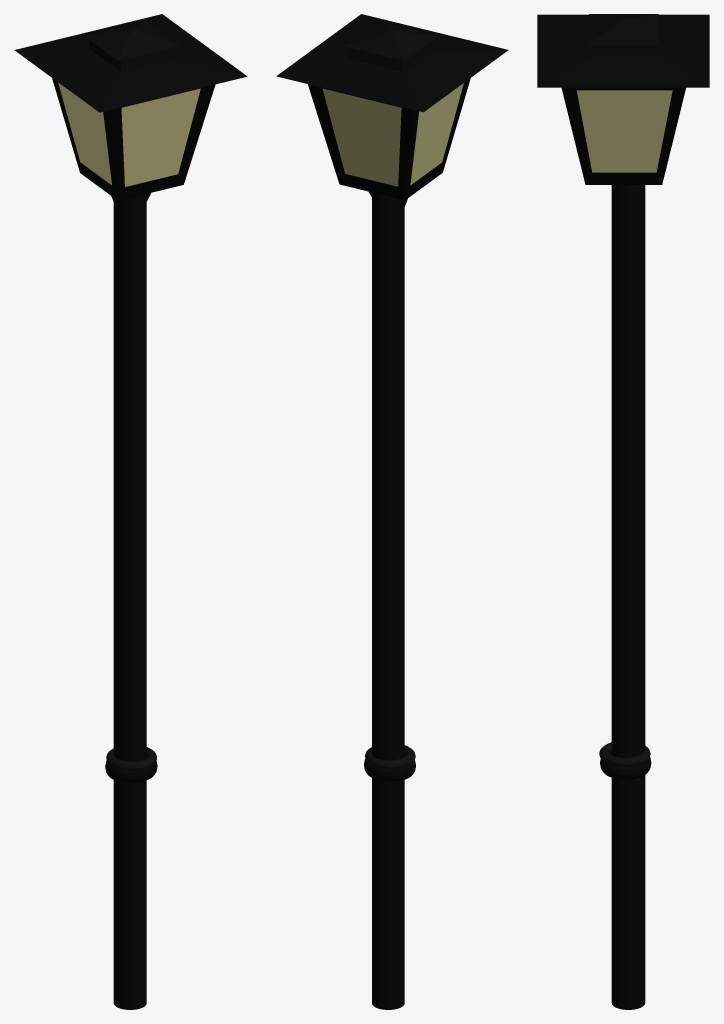
File: posteluz.fbx
3 renders of one model, left to right at view 1: azimuth 30°, elevation 25°; view 2: azimuth 150°, elevation 25°; view 3: azimuth 270°, elevation 25°, orthographic.
Visible parts, largest first — view 1: Cylinder, Cube, Cube.001, Cube.003, Cube.002, Torus, Torus.001; view 2: Cylinder, Cube, Cube.001, Cube.003, Cube.002, Torus, Torus.001; view 3: Cylinder, Cube.001, Cube, Cube.003, Cube.002, Torus, Torus.001.
Boxes of the visible parts, left/top/right/bottom form: Cylinder: left=113, top=194, right=146, bottom=1009; Cube: left=52, top=78, right=215, bottom=200; Cube.001: left=14, top=14, right=247, bottom=112; Cube.003: left=84, top=20, right=179, bottom=60; Cube.002: left=89, top=40, right=174, bottom=71; Torus: left=105, top=760, right=157, bottom=782; Torus.001: left=106, top=747, right=156, bottom=770; Cylinder: left=372, top=192, right=404, bottom=1009; Cube: left=308, top=78, right=470, bottom=200; Cube.001: left=276, top=14, right=508, bottom=112; Cube.003: left=343, top=21, right=438, bottom=60; Cube.002: left=348, top=40, right=433, bottom=71; Torus: left=364, top=756, right=415, bottom=781; Torus.001: left=365, top=745, right=415, bottom=768; Cylinder: left=611, top=185, right=645, bottom=1009; Cube.001: left=537, top=14, right=709, bottom=87; Cube: left=561, top=87, right=685, bottom=184; Cube.003: left=589, top=14, right=658, bottom=44; Cube.002: left=592, top=44, right=655, bottom=55; Torus: left=600, top=752, right=651, bottom=779; Torus.001: left=599, top=742, right=650, bottom=766.
Size of the model in its own units: 85.78 by 539 by 85.78.
